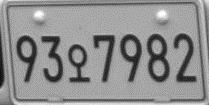2: (172, 32, 197, 82)
3: (39, 34, 63, 82)
7: (92, 34, 115, 83)
8: (145, 32, 170, 82)
9: (118, 32, 143, 81), (15, 34, 38, 82)
오: (66, 43, 90, 82)
